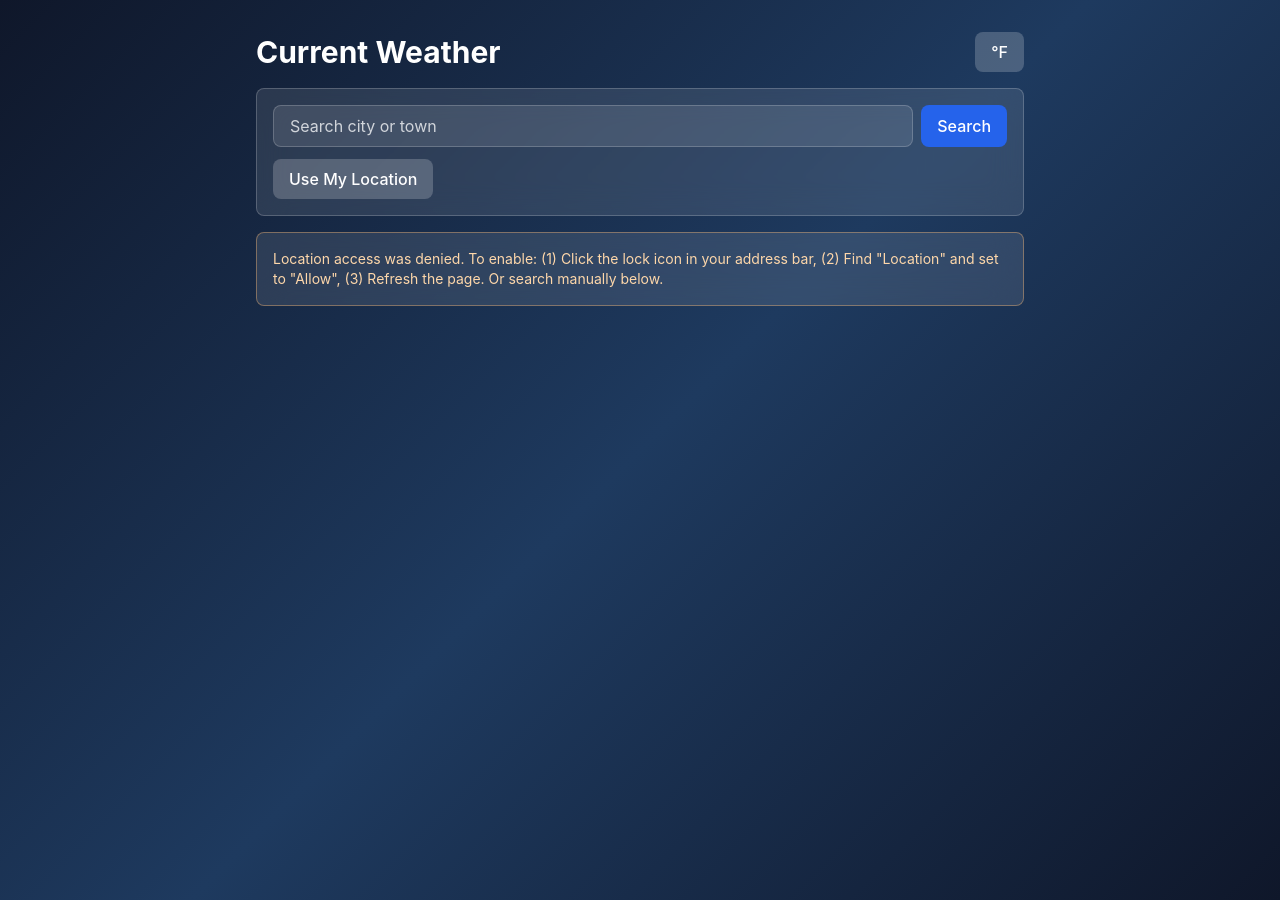
Scenario: User control after auto-detect › re-requests browser geolocation after an initial denial
This screenshot has width=1280, height=900.
Expected: the text "Location access was denied" is shown, [273,250,999,287]
Click the button "Use My Location".
click(353, 179)  # box [273,159,433,199]
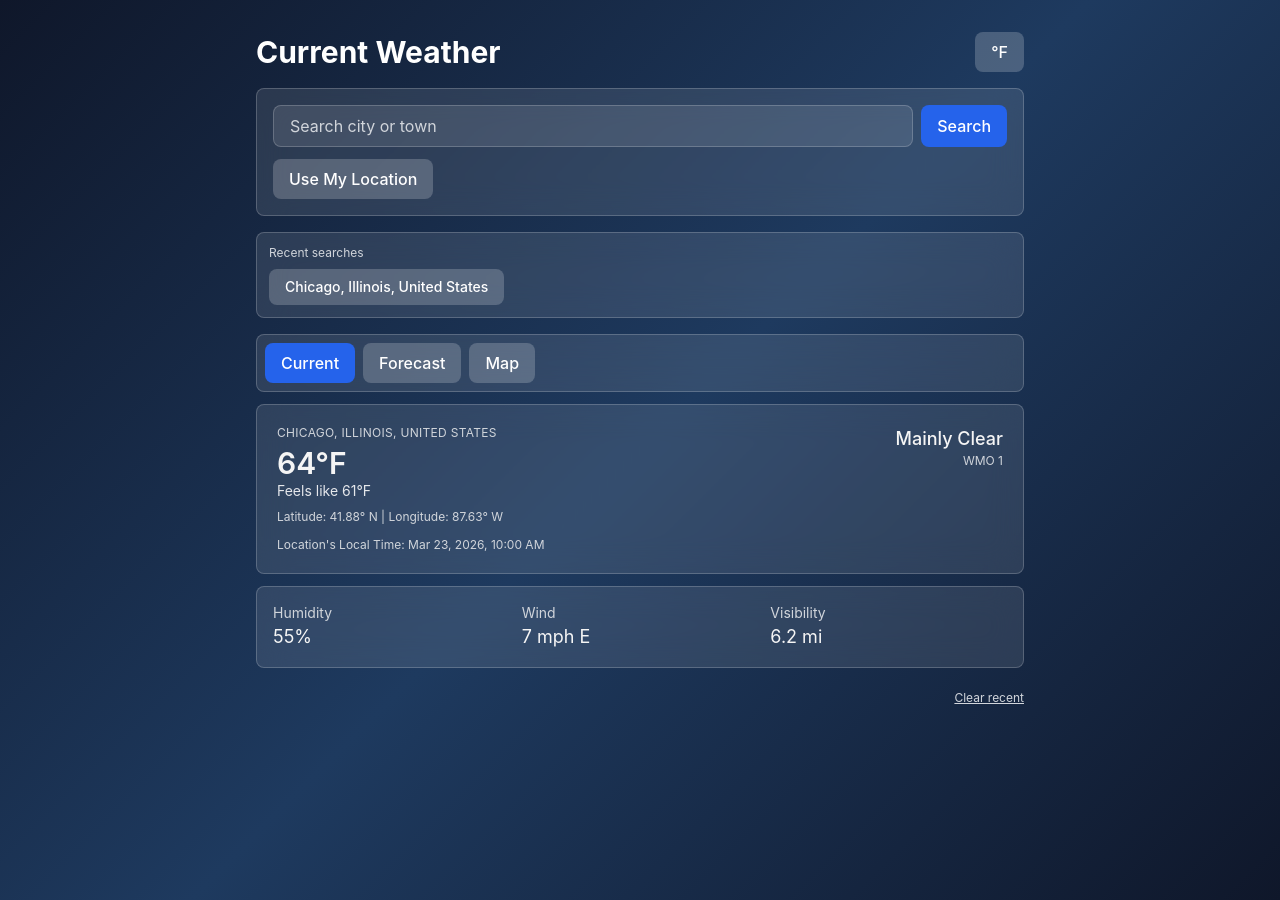
Expected: the element named "current weather" shows "Chicago, Illinois, United States", [277,425,497,440]
